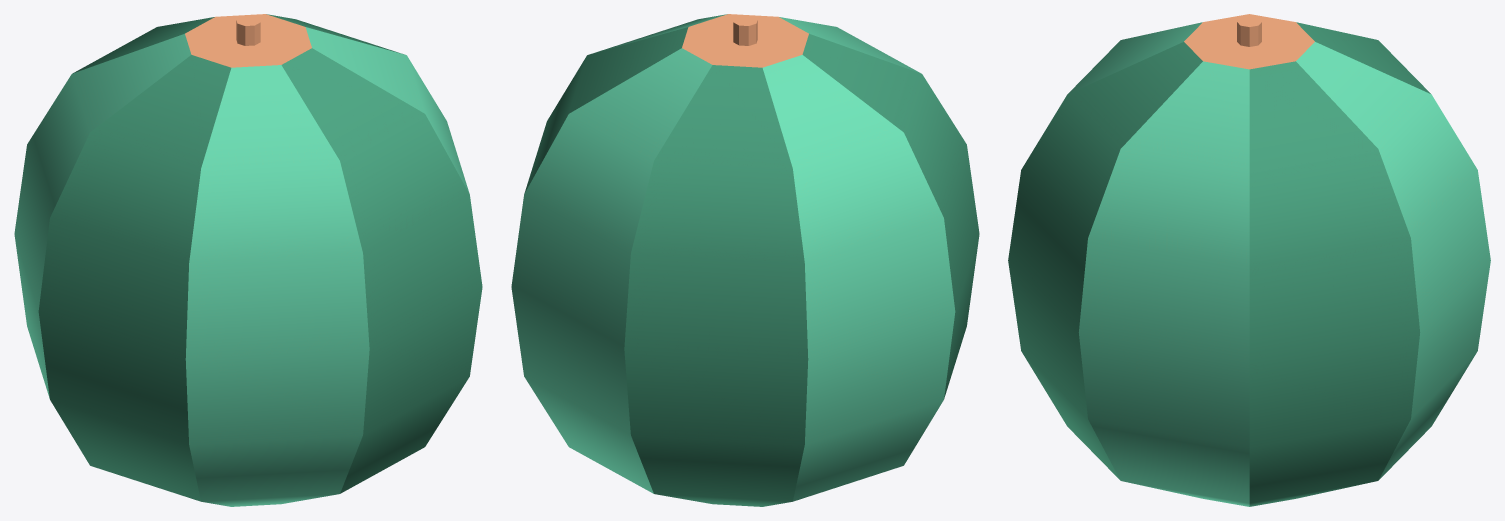
File: watermelon.glb
3 views of the same model, side by side, from view 1: azimuth 30°, elevation 25°; view 2: azimuth 150°, elevation 25°; view 3: azimuth 270°, elevation 25° (orthographic).
Parts seen in each view (by area): view 1: slice; view 2: slice; view 3: slice.
Part boxes in pixels (x1,y1,x2,y2): slice: (14, 14, 482, 506); slice: (511, 14, 979, 506); slice: (1008, 14, 1490, 506).
Bounding box in the file's own units: 0.4554 × 0.4761 × 0.4554.
1 material, 1 textured.
